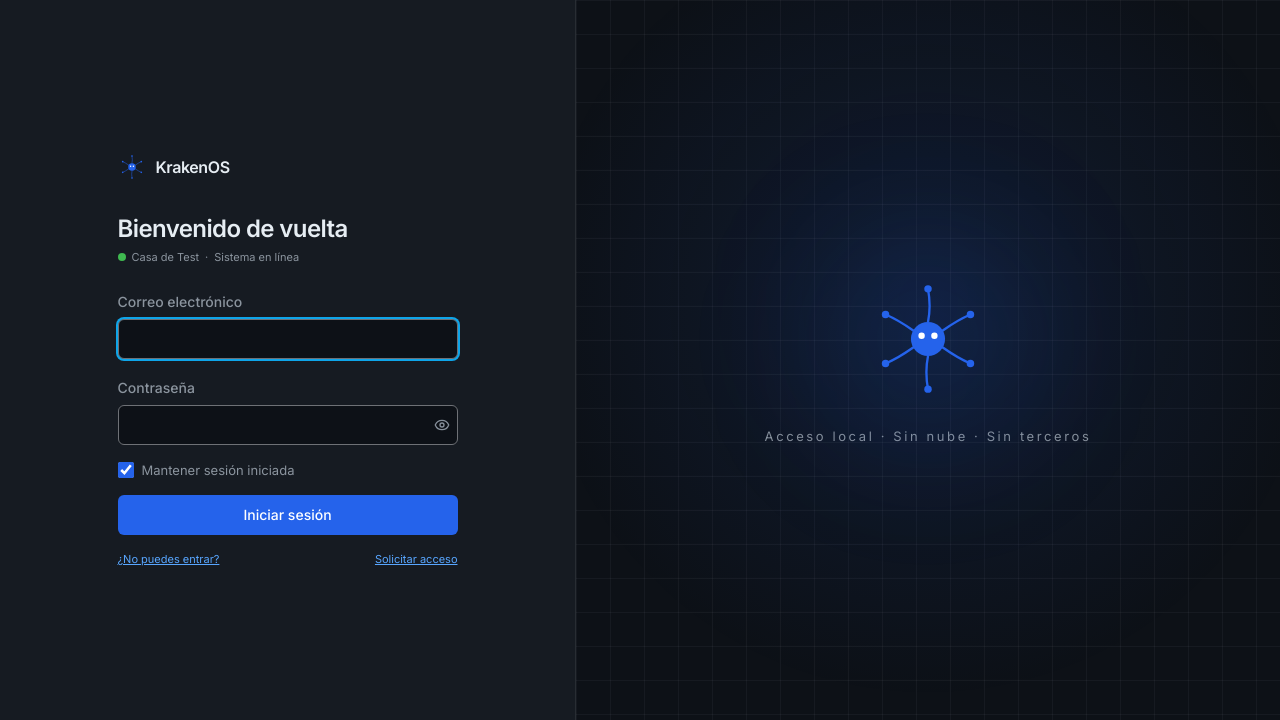
it: LoginPage › entrar sin la contraseña (US-269) › dice qué hacer si no se guardaron códigos
This screenshot has width=1280, height=720.
Click the button "¿No puedes entrar?" at (168, 559), box [118,551,219,567]
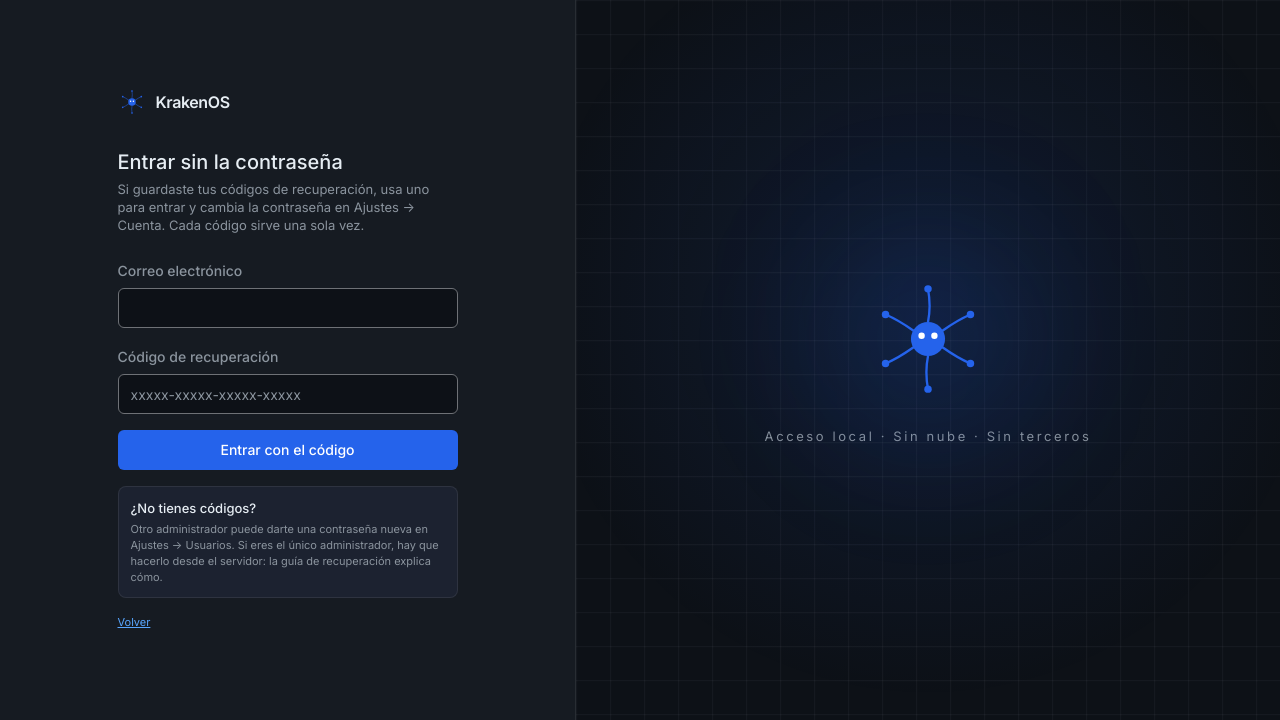
Expected: the text "¿No tienes códigos?" is shown, [130,500,256,516]
Expected: the text "desde el servidor" is shown, [130,522,439,584]
